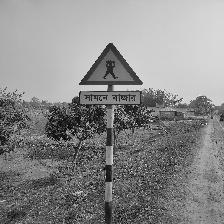Market-in-front: (78, 43, 144, 106)
